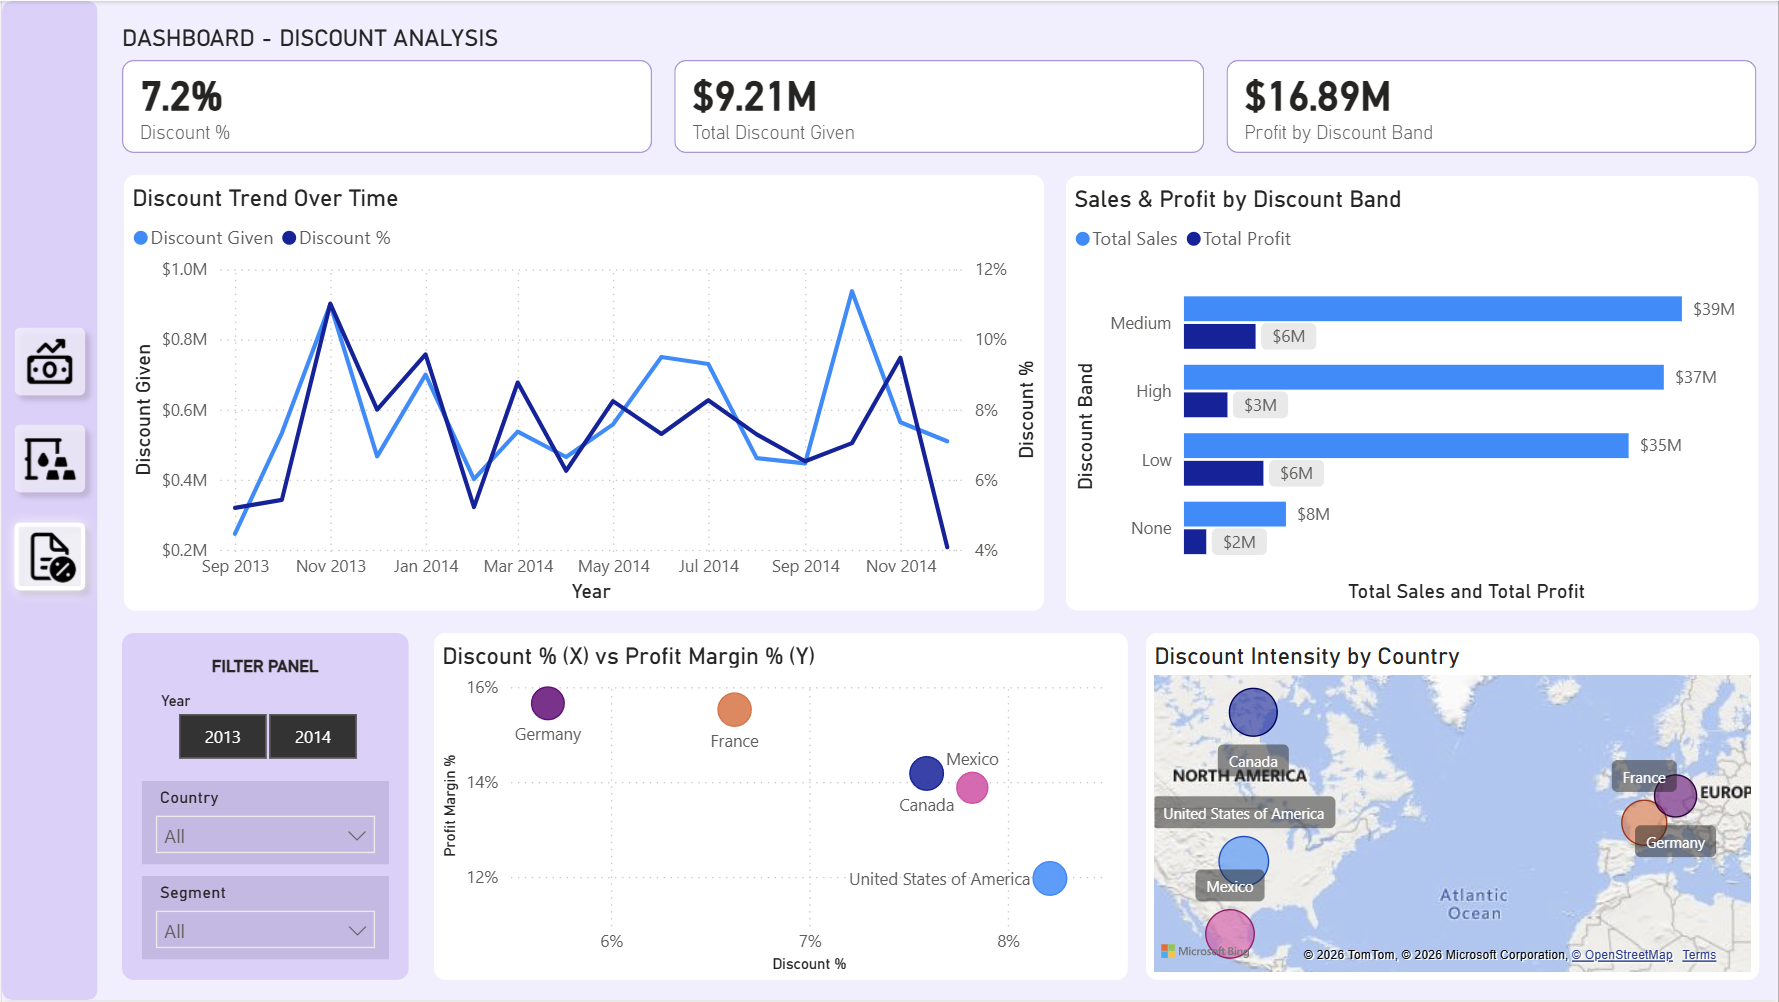

The page's visual inventory and layout, read from the dashboard file:
{"tool":"powerbi","page":{"name":"Discount Analysis","canvas":[1280,720],"ordinal":2},"visuals":[{"type":"shape","box":[0,0,68.9,720],"z":0},{"type":"cardVisual","title":"DASHBOARD - DISCOUNT ANALYSIS","fields":{"Data":["financials.Discount %","financials.Total Discount Given","financials.Profit by Discount Band"]},"box":[86.6,11.7,1179.8,113.8],"z":1000},{"type":"lineChart","title":"Discount Trend Over Time","fields":{"Category":["financials.Date.Variation.Date Hierarchy.Year","financials.Date.Variation.Date Hierarchy.Month"],"Y2":["financials.Discount %"],"Y":["financials.Total Discount Given"]},"box":[87.8,125.6,663.3,314.4],"z":2000},{"type":"clusteredBarChart","title":"Sales & Profit by Discount Band","fields":{"Category":["financials.Discount Band"],"Y":["financials.Total Sales","financials.Total Profit"]},"box":[766.9,126,498.7,313.2],"z":3000},{"type":"shape","box":[86.7,455.6,206.7,250],"z":4000,"group":"g1"},{"type":"scatterChart","title":"Discount % (X) vs Profit Margin % (Y)","fields":{"X":["financials.Discount %"],"Y":["financials.Profit Margin %"],"Size":["financials.Total Sales"],"Series":["financials.Country"]},"box":[311.4,455.7,500,250],"z":4000},{"type":"map","title":"Discount Intensity by Country","fields":{"Category":["financials.Country"],"Size":["financials.Discount %"],"Series":["financials.Country"]},"box":[824.4,455.6,442.2,250],"z":5000},{"type":"slicer","title":"Year","fields":{"Values":["financials.Date.Variation.Date Hierarchy.Year"]},"box":[101.7,493.4,178,60],"z":5000,"group":"g1"},{"type":"group","id":"g1","title":"Group 1","box":[86.7,455.6,206.7,250],"z":6000},{"type":"slicer","fields":{"Values":["financials.Country"]},"box":[100.9,562.3,177.9,60],"z":6000,"group":"g1"},{"type":"actionButton","box":[0,226.3,68.9,66.9],"z":7000},{"type":"slicer","fields":{"Values":["financials.Segment"]},"box":[101.3,630.9,178.2,60.4],"z":7000,"group":"g1"},{"type":"actionButton","box":[0,296.1,68.9,66.9],"z":8000},{"type":"textbox","box":[135.1,465,110,27.9],"z":8000,"group":"g1"},{"type":"actionButton","box":[0,367,68.9,66.9],"z":9000}]}

Visuals, with their boxes on the page's 1280x720 design canvas (x1, y1, x2, y2). These are canvas units, not pixel positions in the 1779x1002 screenshot, which may show the page scaled, cropped or inside an application window:
shape: 0:0:69:720
"DASHBOARD - DISCOUNT ANALYSIS" cardVisual: 87:12:1266:126
"Discount Trend Over Time" lineChart: 88:126:751:440
"Sales & Profit by Discount Band" clusteredBarChart: 767:126:1266:439
shape: 87:456:293:706
"Discount % (X) vs Profit Margin % (Y)" scatterChart: 311:456:811:706
"Discount Intensity by Country" map: 824:456:1267:706
"Year" slicer: 102:493:280:553
"Group 1" group: 87:456:293:706
slicer - financials.Country: 101:562:279:622
actionButton: 0:226:69:293
slicer - financials.Segment: 101:631:280:691
actionButton: 0:296:69:363
textbox: 135:465:245:493
actionButton: 0:367:69:434
